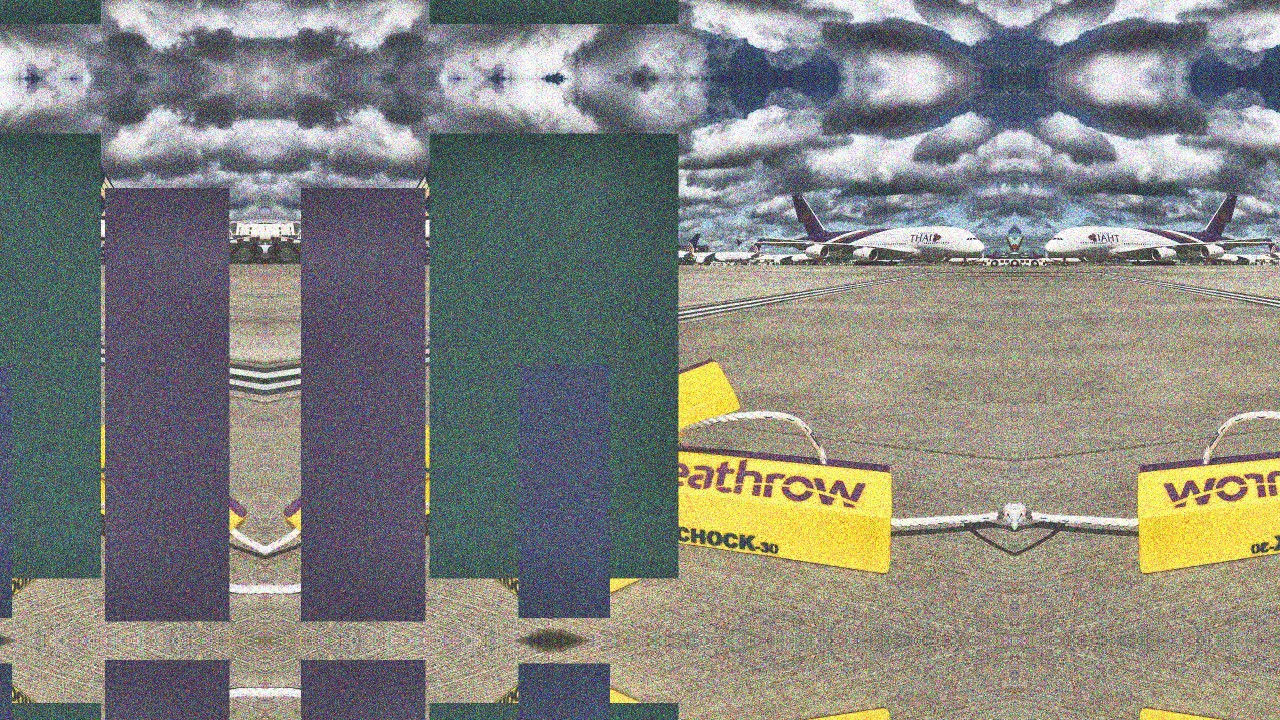chock: (381, 356, 741, 541), (606, 435, 894, 574), (76, 405, 251, 565), (279, 405, 454, 565), (0, 356, 149, 541), (461, 491, 647, 621), (1136, 435, 1280, 574), (461, 661, 647, 720), (0, 491, 69, 621), (0, 661, 69, 720)
